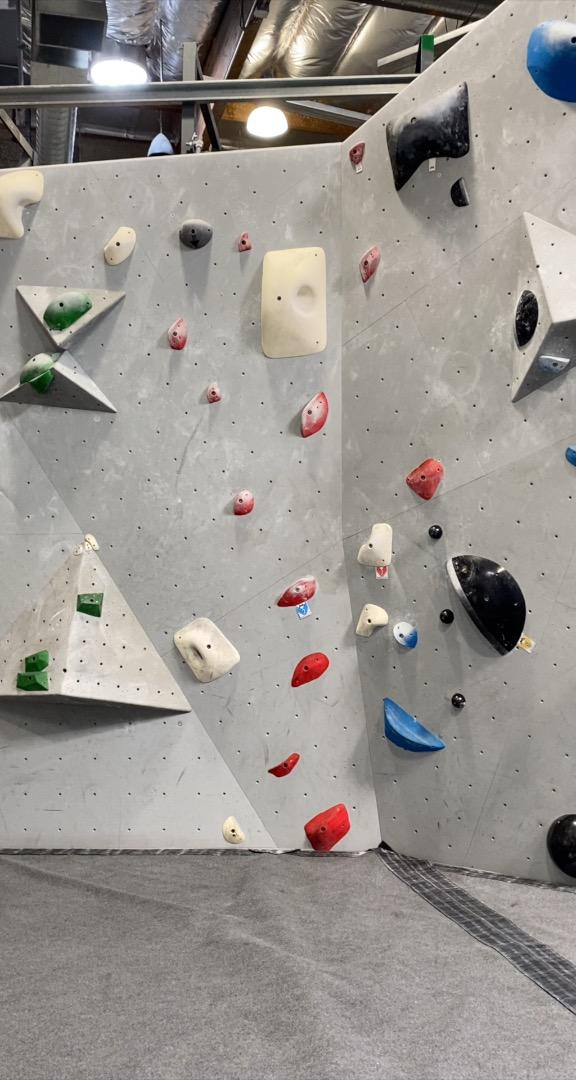holds: (384, 79, 471, 193), (445, 553, 529, 658), (260, 245, 329, 360), (171, 615, 242, 685), (524, 18, 575, 105), (382, 695, 447, 754), (0, 168, 46, 241), (303, 801, 353, 854), (544, 810, 575, 883), (41, 289, 94, 331), (405, 456, 446, 502), (355, 522, 394, 568), (18, 349, 64, 387), (512, 287, 540, 349), (299, 389, 331, 439), (290, 650, 331, 689), (275, 574, 319, 609), (102, 225, 137, 267), (354, 602, 390, 638), (177, 218, 214, 250), (266, 751, 302, 779), (358, 244, 382, 285), (166, 315, 190, 351), (536, 352, 572, 376), (75, 591, 105, 619), (28, 368, 57, 396), (221, 814, 247, 845), (231, 488, 257, 518), (449, 175, 472, 208), (392, 621, 419, 649), (15, 671, 50, 692), (23, 649, 50, 674), (347, 140, 367, 166), (204, 380, 223, 405), (237, 230, 254, 254), (563, 444, 575, 474), (83, 533, 101, 552), (450, 692, 468, 710), (427, 523, 444, 541), (439, 608, 455, 625), (73, 543, 84, 557), (83, 541, 93, 553)
